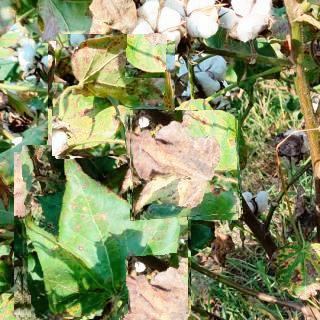blight: (52, 37, 171, 156), (130, 110, 241, 221)
leaf spot: (17, 148, 188, 319)
